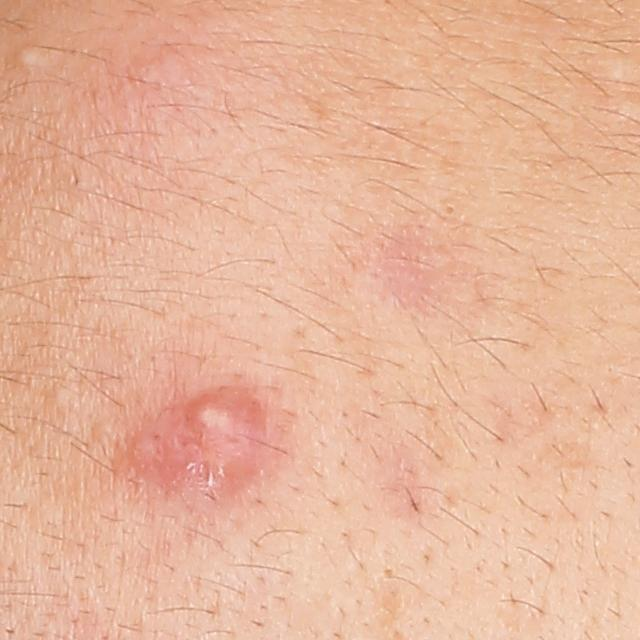comedo: (14, 44, 50, 73), (45, 380, 73, 410), (440, 199, 459, 214)
pustule: (192, 384, 273, 483)
